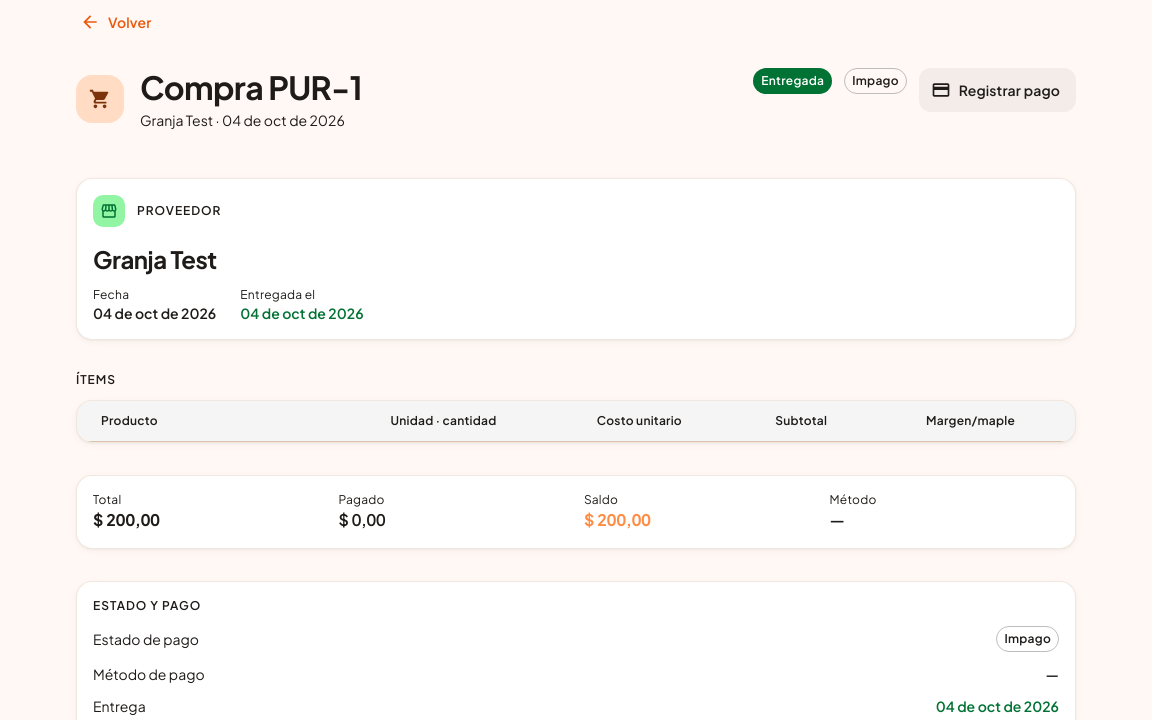
Test: PurchaseDetailPage — split payment dialog › records a split payload with one line per method (cash 50 + MP 50)
Later steps or results of the test are not shown.
Expected: the heading "Compra PUR-1" is shown, [140,68,362,106]
Click the button "Registrar pago" at (997, 90), box [919,68,1076,112]
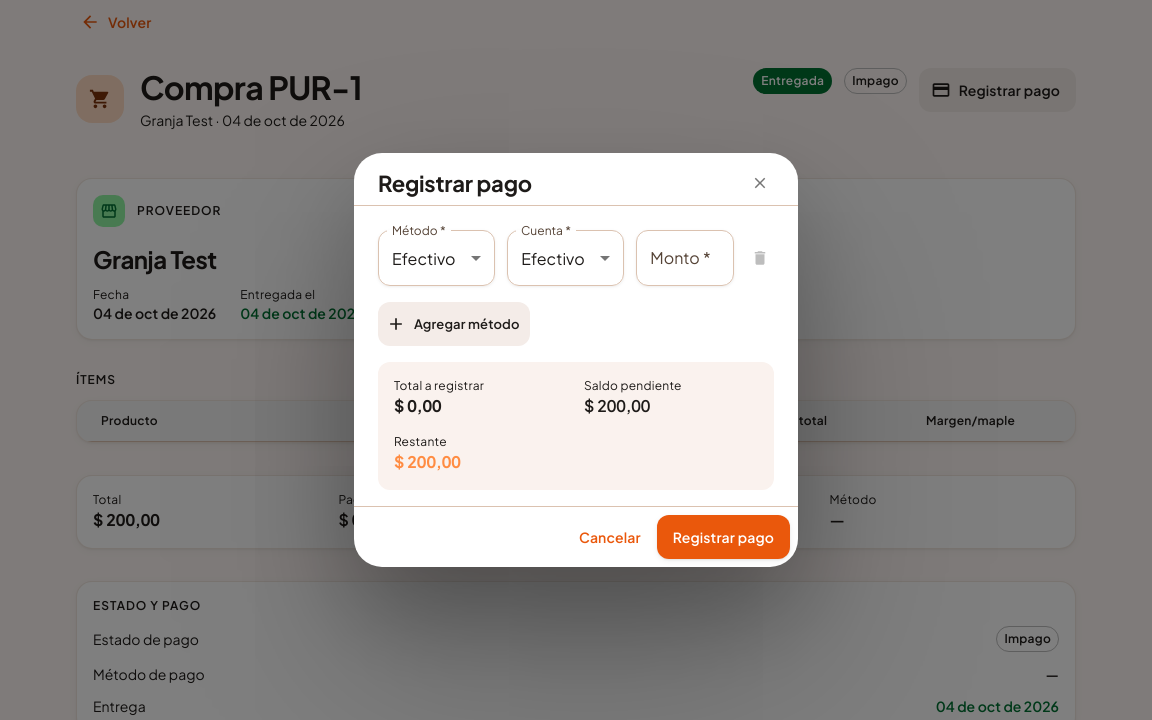
// First line: cash 50 (default method cash → account cash)
Type "50" into the number field labelled "Monto *" at (685, 258), box [636,230,734,286]
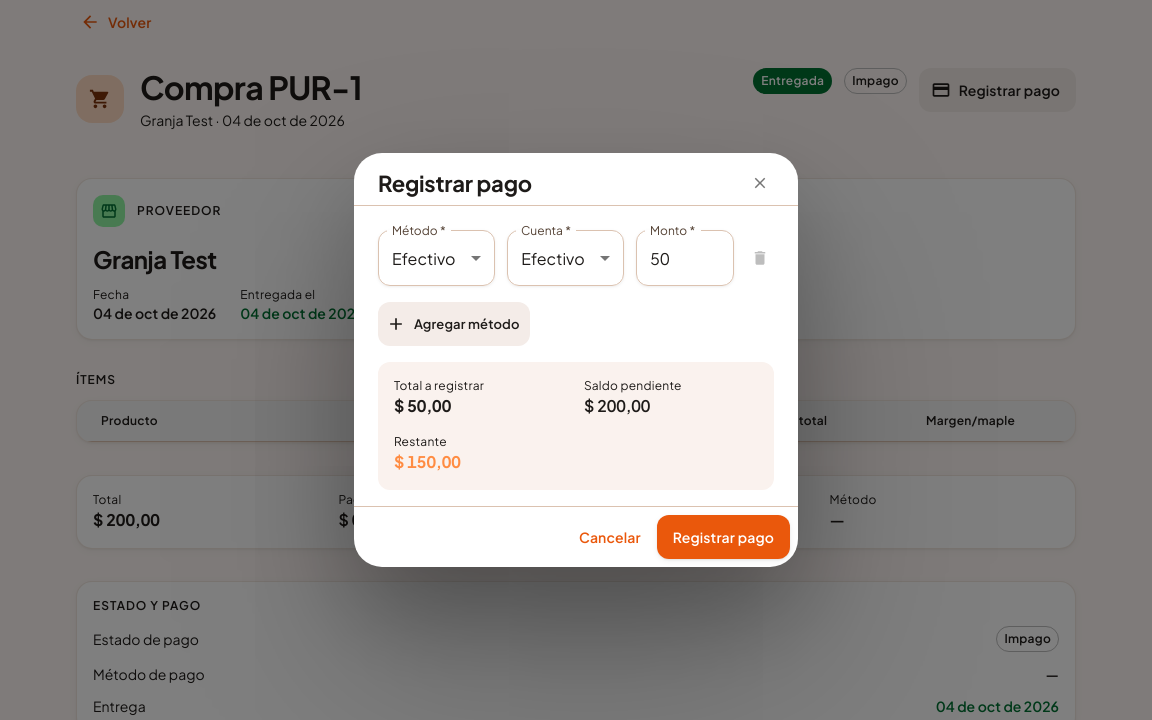
// Add a second line and pay 50 by transfer → Mercado Pago
Click the button "Agregar método" at (454, 324), box [378,302,530,346]
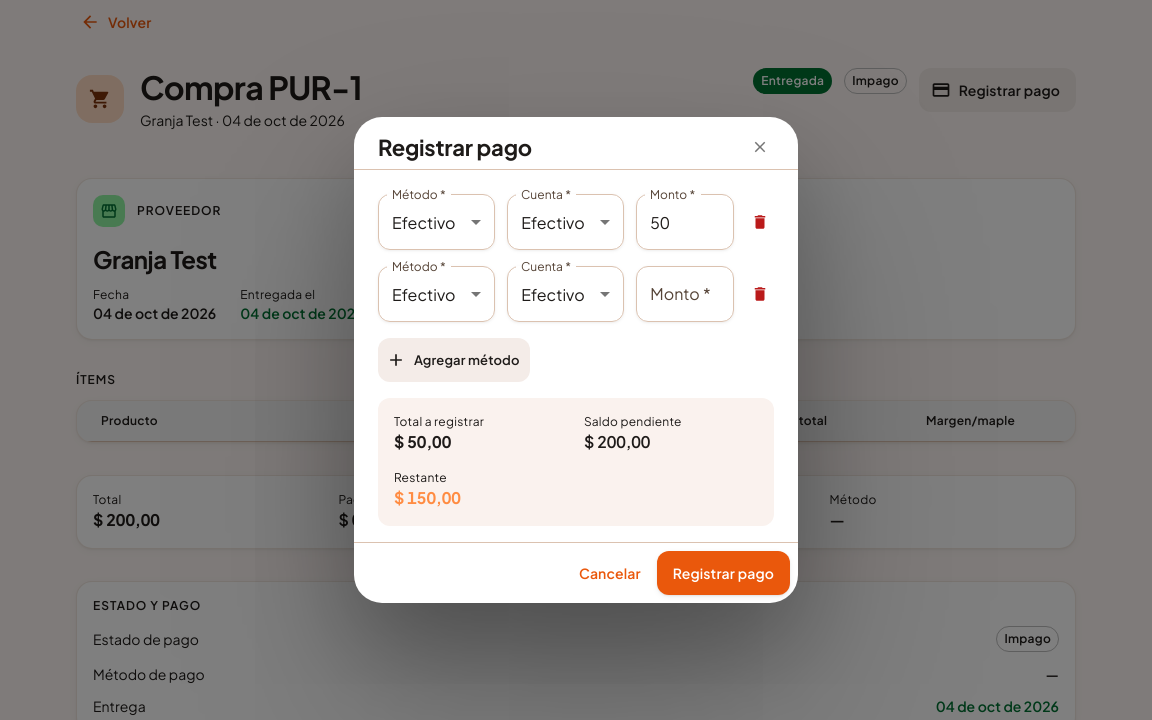
Expected: the number of number fields labelled "Monto *" is 2, [636,194,734,250]; [636,266,734,322]
